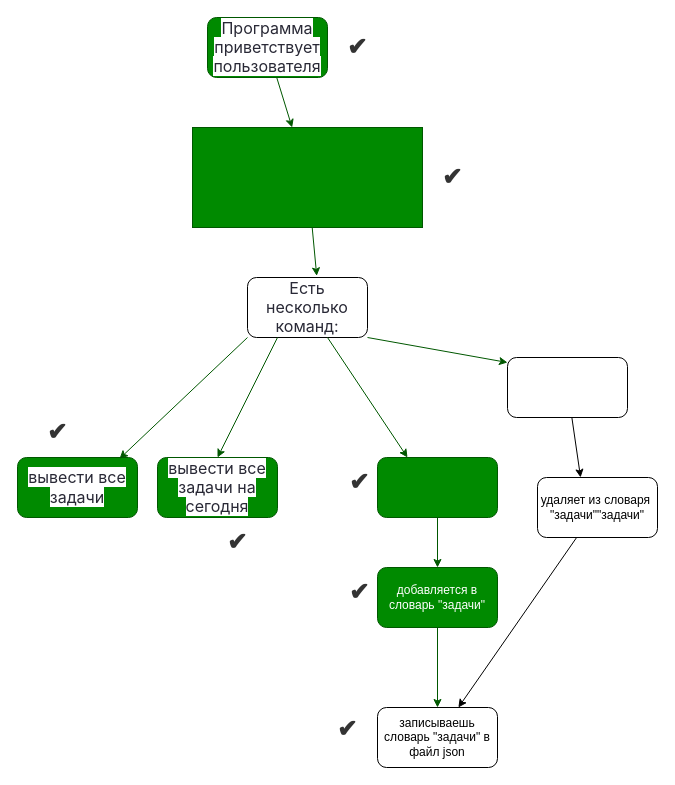
Image size: 675x785. Some labels were removed from this diagram. The shapes that lost their labels are listed below. From the top down, each one's centre as x and y in pixels, then its label:
pixel 307 177: файл .json загружается в словарь "задачи"
pixel 567 387: удалить задачу
pixel 437 487: внести новую задачу
